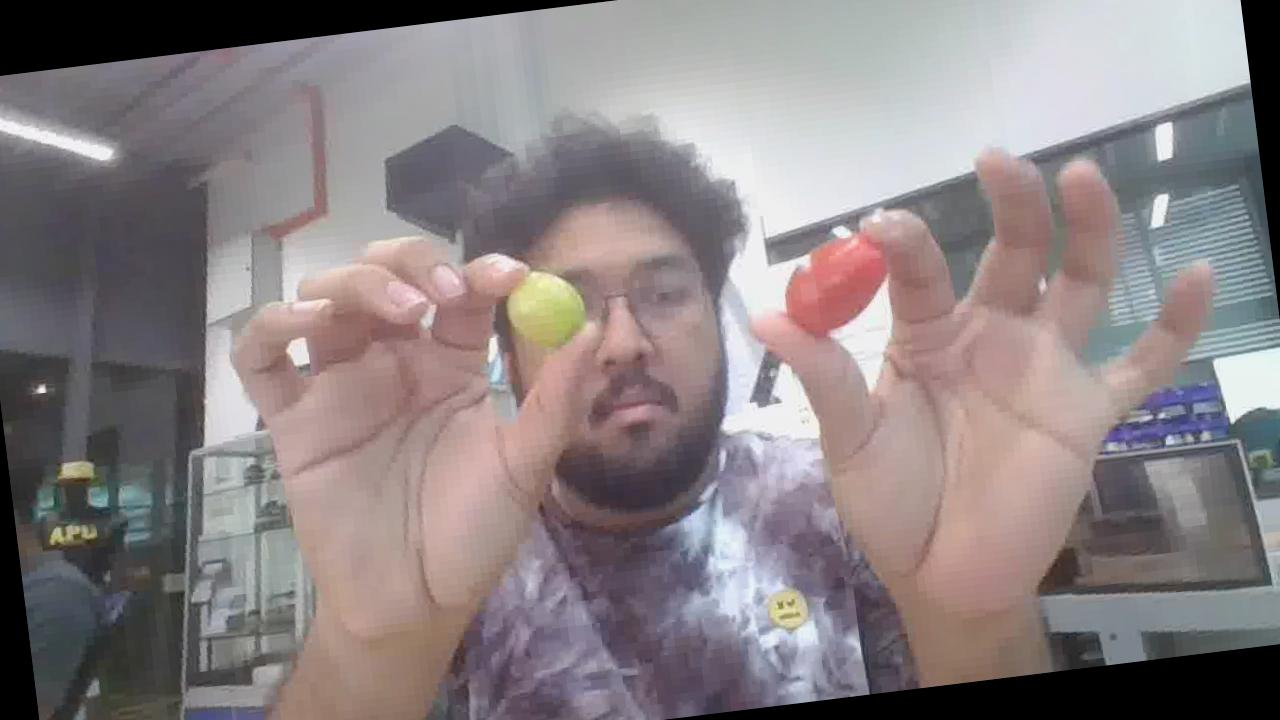green_cherry_tomato: (505, 271, 590, 348)
red_cherry_tomato: (785, 235, 886, 335)
